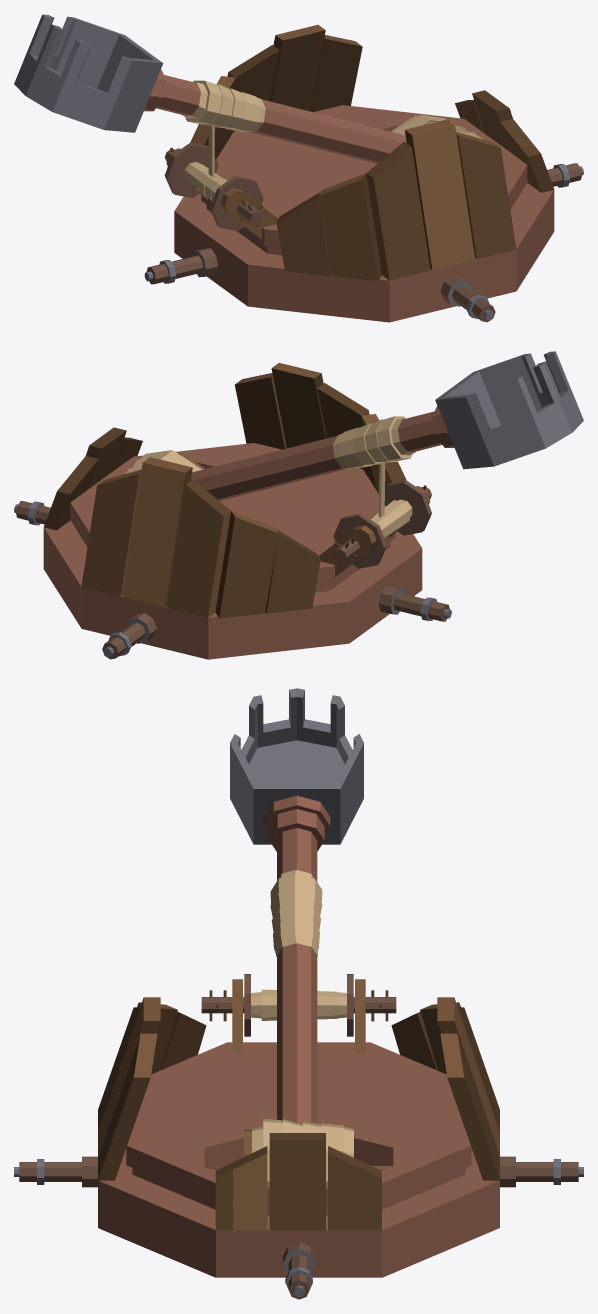
The model's file is Catapult.fbx.
3 views of the same model, one above another, from view 1: azimuth 30°, elevation 25°; view 2: azimuth 150°, elevation 25°; view 3: azimuth 270°, elevation 25° (orthographic). The views are drawn at different scales.
Visible parts, largest first — view 1: Cylinder.059, Cylinder.064, Cylinder.063; view 2: Cylinder.059, Cylinder.064, Cylinder.063; view 3: Cylinder.059, Cylinder.064, Cylinder.063.
Part boxes in pixels (x1,y1,x2,y2): Cylinder.059: [144, 24, 583, 322]; Cylinder.064: [14, 14, 483, 163]; Cylinder.063: [164, 143, 263, 231]; Cylinder.059: [14, 363, 451, 659]; Cylinder.064: [126, 351, 583, 500]; Cylinder.063: [333, 480, 431, 568]; Cylinder.059: [14, 979, 583, 1299]; Cylinder.064: [230, 688, 363, 1181]; Cylinder.063: [201, 974, 396, 1036].
Size of the model in its own units: 1681 by 843 by 1312.
